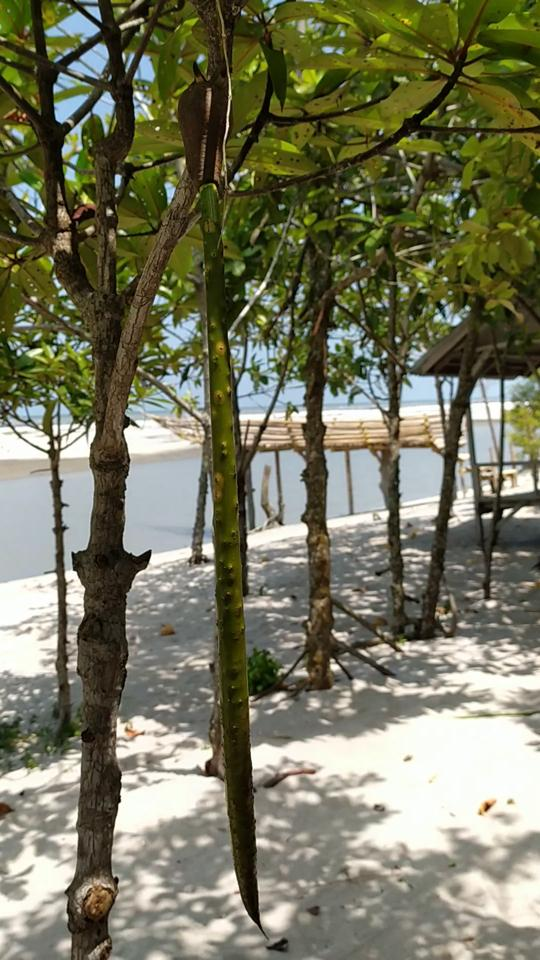setengah matang: (163, 79, 282, 938)
